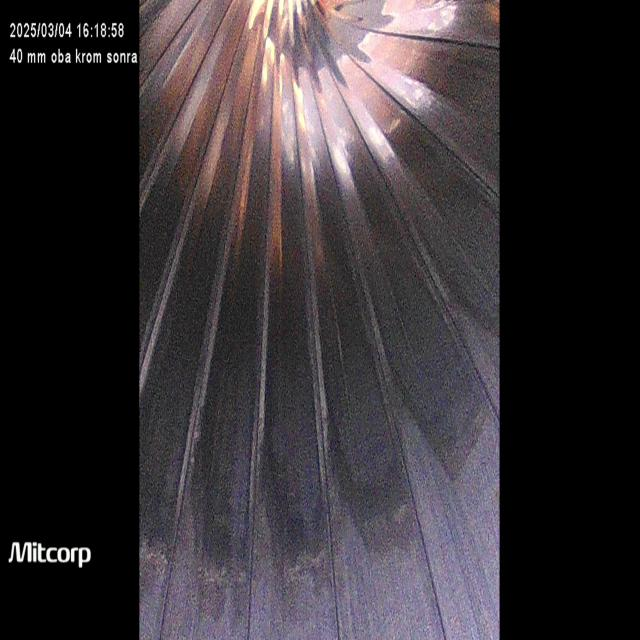hata_8.2: (173, 356, 496, 599)
